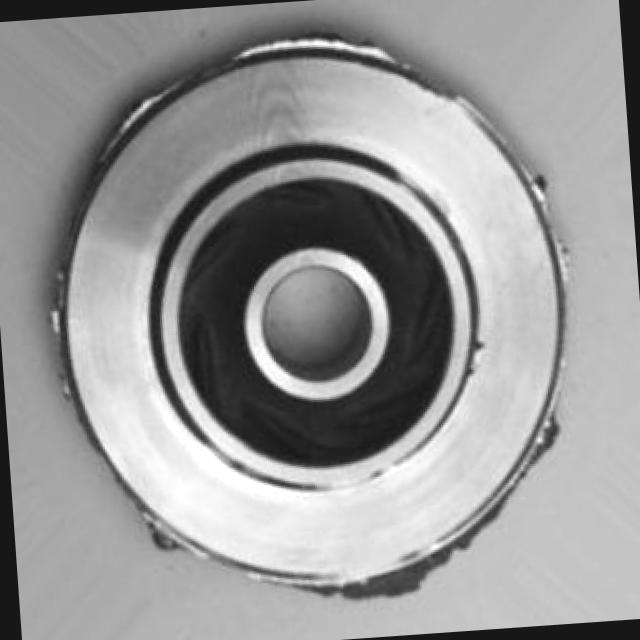Defect: (242, 25, 417, 61)
